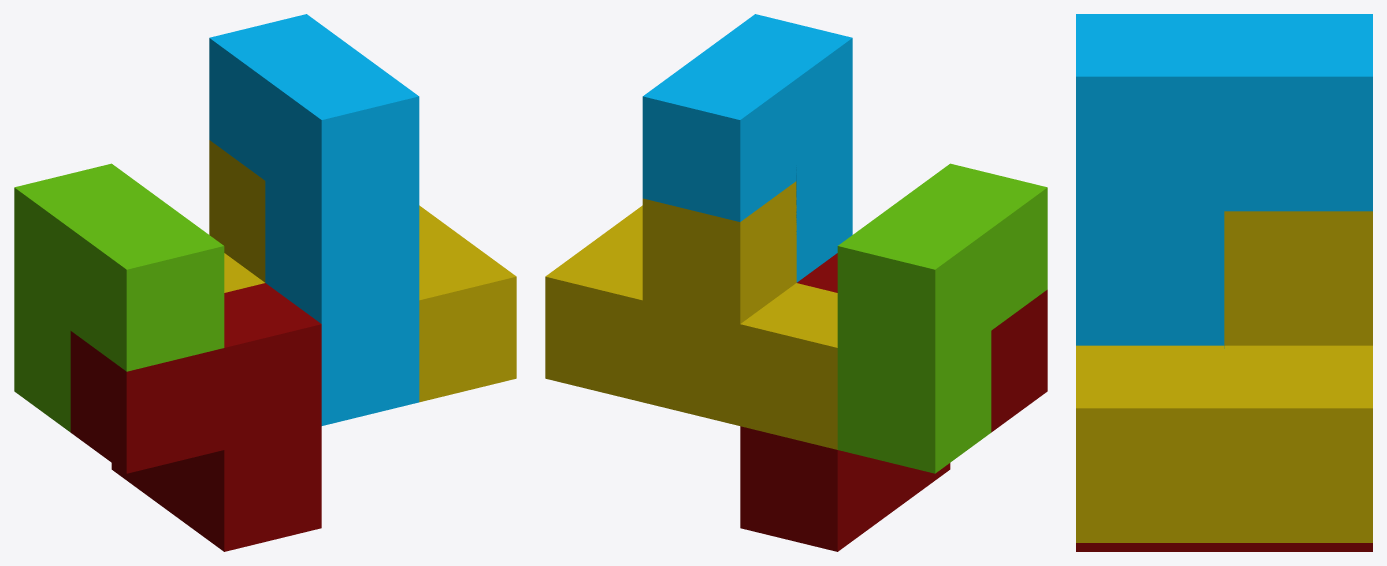
3 views of the same model, side by side, from view 1: azimuth 30°, elevation 25°; view 2: azimuth 150°, elevation 25°; view 3: azimuth 270°, elevation 25° (orthographic). The views are drawn at different scales.
Visible parts, largest first — view 1: mergedBlocks(Clone); view 2: mergedBlocks(Clone); view 3: mergedBlocks(Clone).
Part boxes in pixels (x1,y1,x2,y2): mergedBlocks(Clone): (14, 14, 516, 551); mergedBlocks(Clone): (545, 14, 1047, 551); mergedBlocks(Clone): (1076, 14, 1372, 551).
Bounding box in the file's own units: 4 × 4 × 2.
4 materials, 4 textured.
